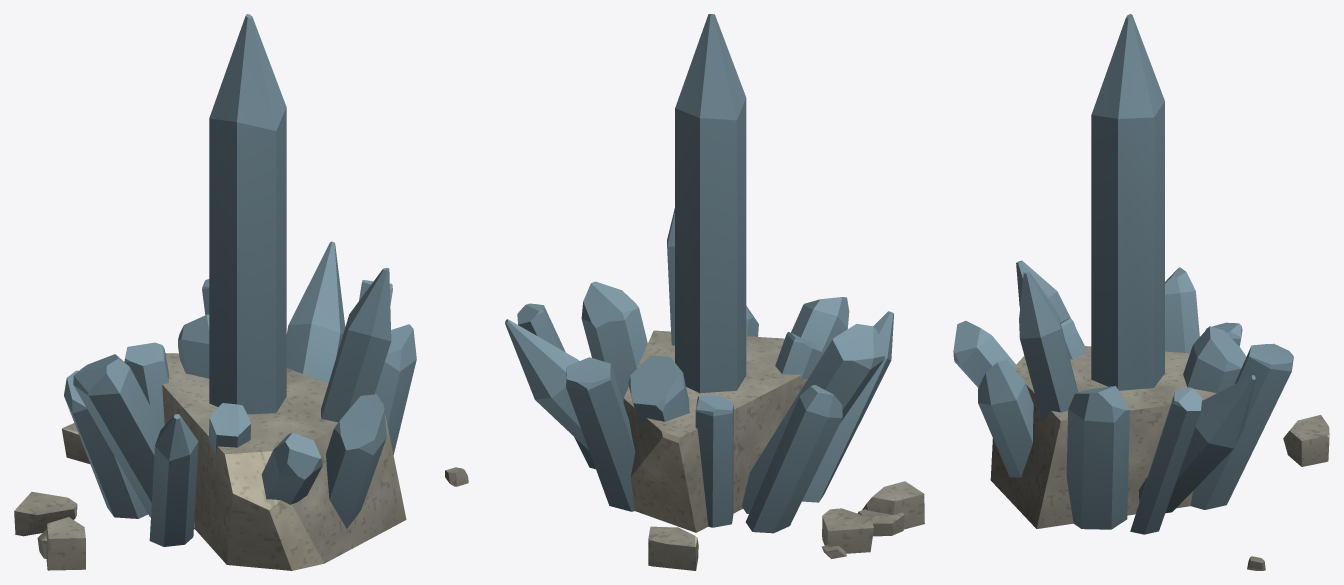
The picture shows the model from 3 angles, left to right: view 1: azimuth 30°, elevation 25°; view 2: azimuth 150°, elevation 25°; view 3: azimuth 270°, elevation 25°; orthographic projection. The views are drawn at different scales.
Visible parts, largest first — view 1: crystalline mineral, weathered mineral, fresh chipped mineral; view 2: crystalline mineral, weathered mineral, fresh chipped mineral; view 3: crystalline mineral, weathered mineral.
Part boxes in pixels (<box>): crystalline mineral: <box>64,14,416,546</box>; weathered mineral: <box>14,353,406,570</box>; fresh chipped mineral: <box>62,428,324,570</box>; crystalline mineral: <box>505,14,893,533</box>; weathered mineral: <box>445,330,924,570</box>; fresh chipped mineral: <box>630,431,697,546</box>; crystalline mineral: <box>953,14,1293,534</box>; weathered mineral: <box>990,346,1329,570</box>.
Bounding box in the file's own units: 0.8857 × 0.9905 × 0.7265.
3 materials, 2 textured.
